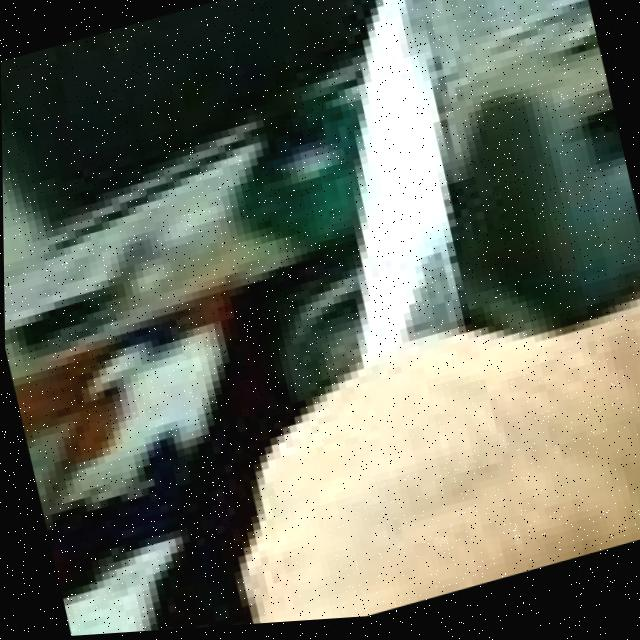knife: (257, 0, 532, 414)
